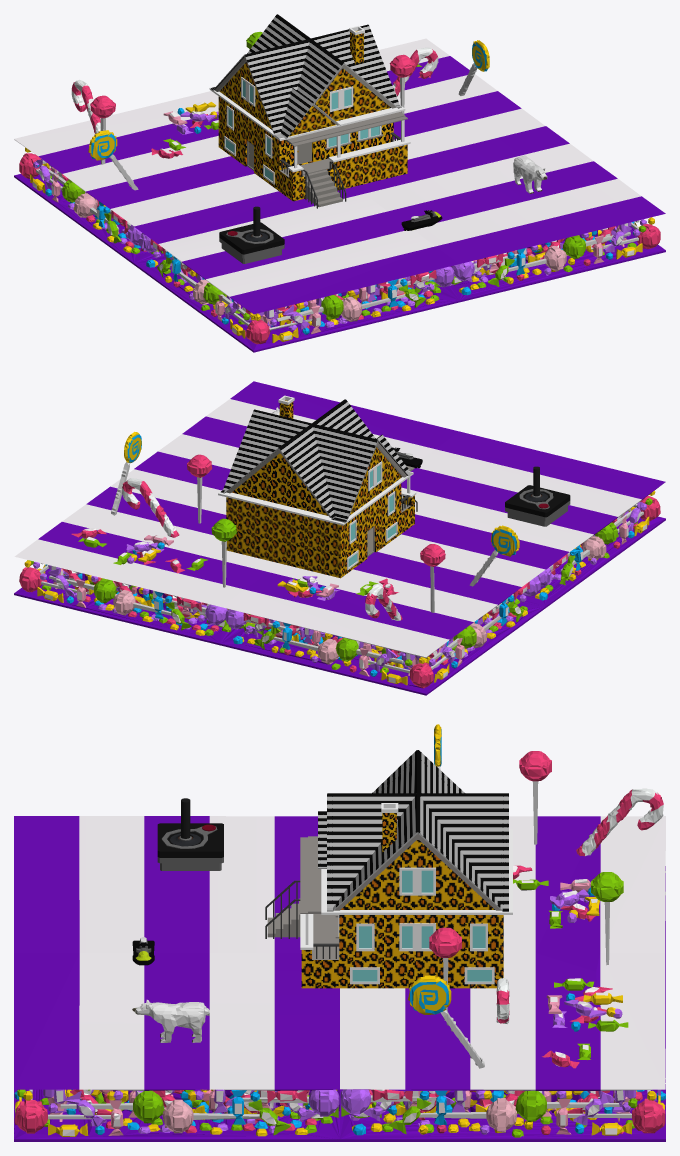
3 renders of one model, top to bottom at view 1: azimuth 30°, elevation 25°; view 2: azimuth 150°, elevation 25°; view 3: azimuth 270°, elevation 25°, orthographic. The views are drawn at different scales.
Visible parts, largest first — view 1: TERRAIN_CANDY, Cube.637, OBJRANDOM_JOYSTICK, ANIMAL_OSO_POLAR, VEHICLES_WATERBIKE; view 2: TERRAIN_CANDY, Cube.637, OBJRANDOM_JOYSTICK; view 3: TERRAIN_CANDY, Cube.637, OBJRANDOM_JOYSTICK, ANIMAL_OSO_POLAR.
Boxes of the visible parts, <box> form: TERRAIN_CANDY: <box>14,31,665,352</box>; Cube.637: <box>209,14,410,208</box>; OBJRANDOM_JOYSTICK: <box>219,206,284,263</box>; ANIMAL_OSO_POLAR: <box>513,155,547,193</box>; VEHICLES_WATERBIKE: <box>401,210,442,230</box>; TERRAIN_CANDY: <box>14,381,665,695</box>; Cube.637: <box>218,395,417,578</box>; OBJRANDOM_JOYSTICK: <box>505,466,570,526</box>; TERRAIN_CANDY: <box>14,724,665,1141</box>; Cube.637: <box>265,750,512,988</box>; OBJRANDOM_JOYSTICK: <box>157,798,223,870</box>; ANIMAL_OSO_POLAR: <box>132,999,209,1042</box>.
Size of the model in its own units: 4059 by 1534 by 4000.
Materials: 25 (4 with a texture image).
